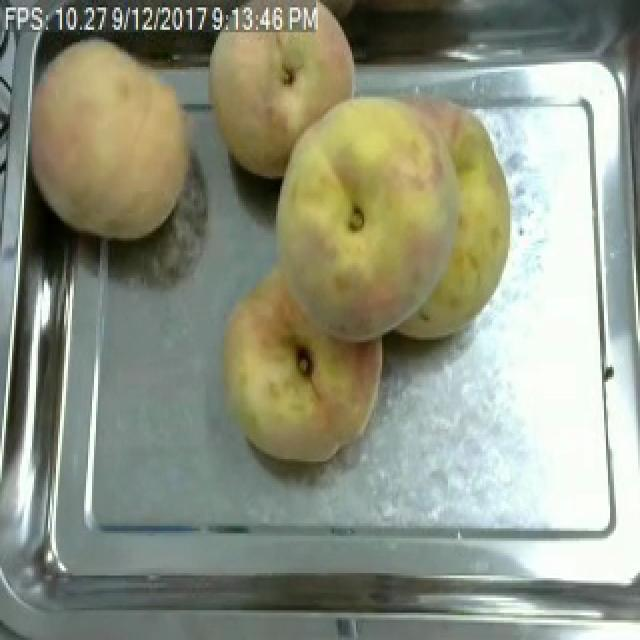Fruit: (254, 74, 524, 355), (8, 22, 212, 250), (210, 258, 390, 466), (196, 15, 370, 188)
